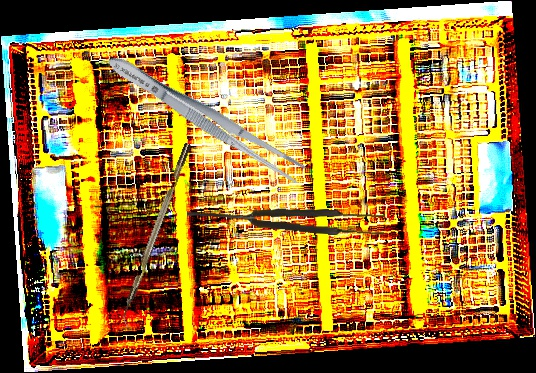Chopper: (115, 142, 201, 329)
Dressing Forceps: (100, 46, 311, 189)
Tissue Forceps: (185, 199, 386, 239)
